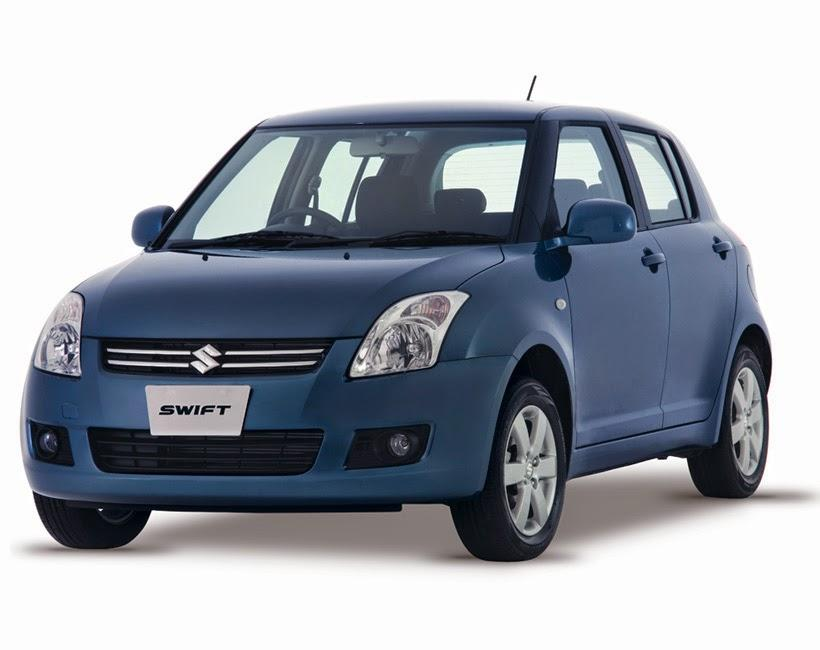Hatchback: (10, 80, 787, 587)
